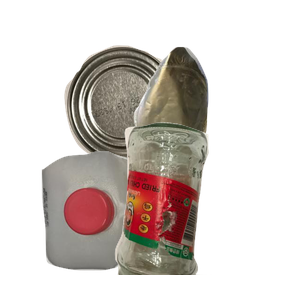glass: (112, 120, 300, 300)
metal: (62, 43, 232, 198)
plastic: (39, 149, 203, 300)
trash: (131, 44, 300, 189)
